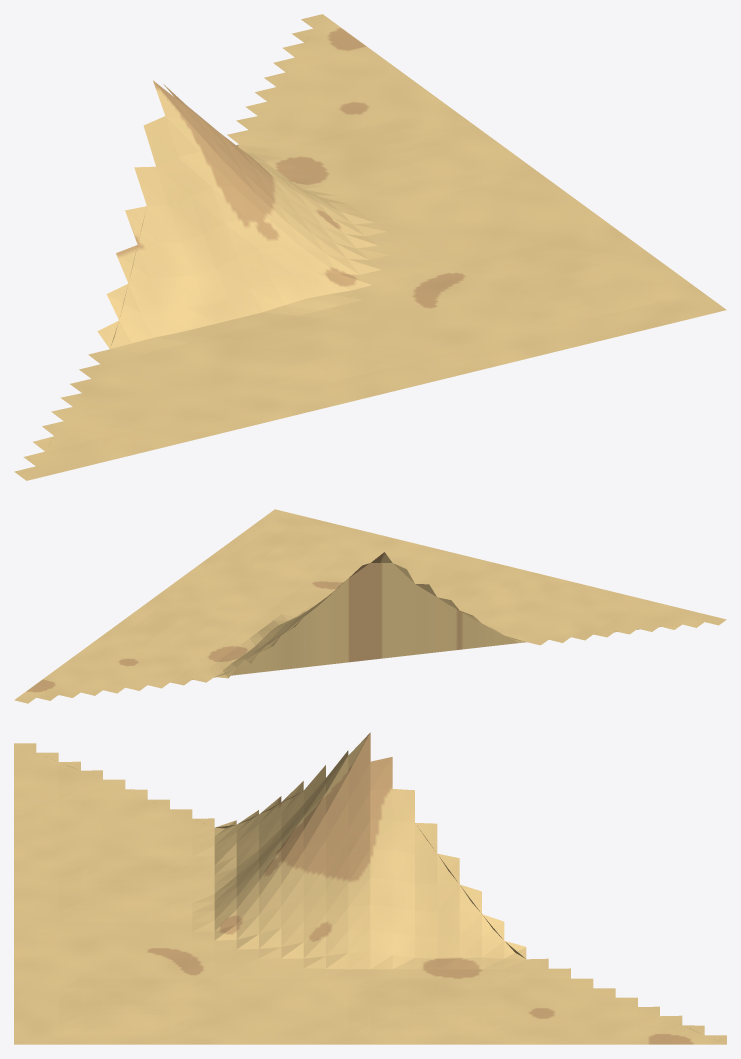
The model's file is Desert_Mountains_01_NE.obj.
3 views of the same model, one above another, from view 1: azimuth 30°, elevation 25°; view 2: azimuth 150°, elevation 25°; view 3: azimuth 270°, elevation 25° (orthographic). The views are drawn at different scales.
Bounding box in the file's own units: 10 × 2.36 × 10.
Materials: 1 (1 with a texture image).
